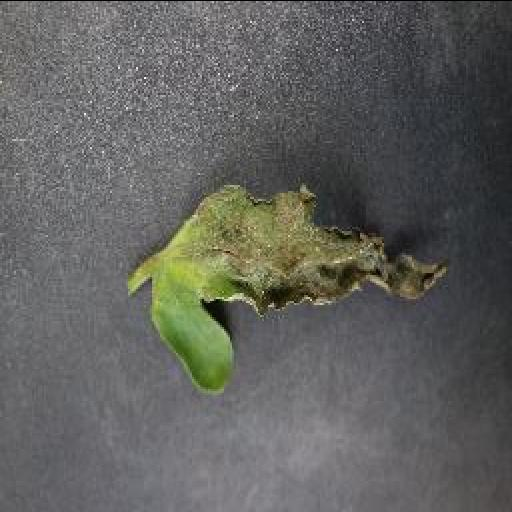disease_tomato: (149, 176, 451, 394)
